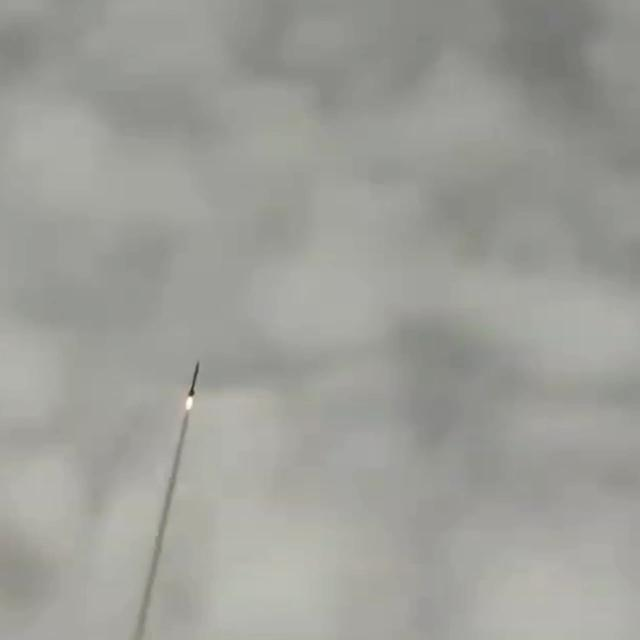smoke_trail_with_rocket: (128, 362, 201, 640)
